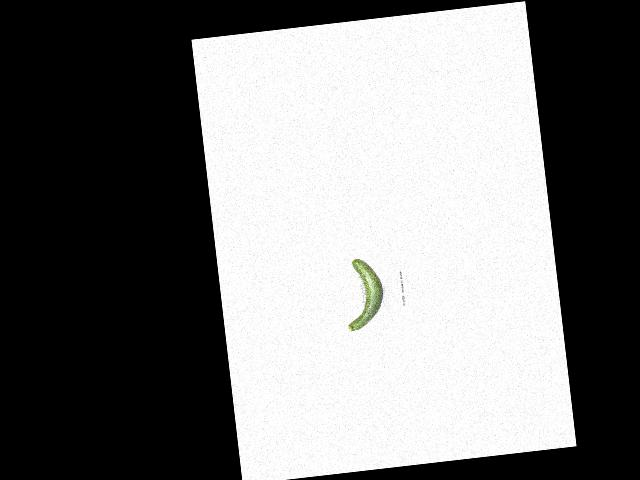cucumber: (340, 256, 387, 331)
